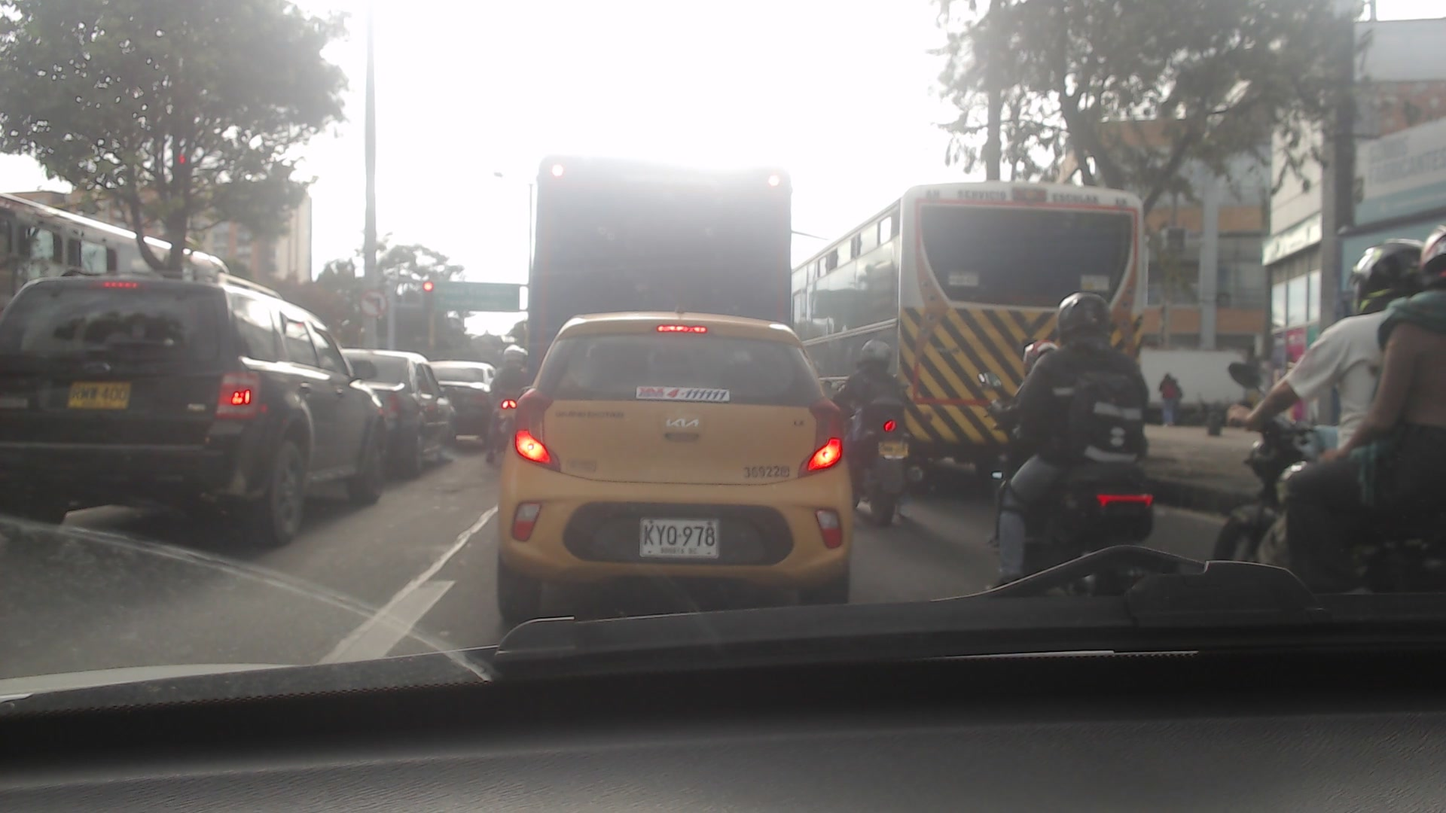bus: (792, 185, 1154, 474)
car: (488, 318, 854, 617), (0, 270, 392, 545), (333, 344, 459, 461), (417, 353, 492, 442)
person: (987, 291, 1157, 485), (1268, 238, 1403, 456), (1357, 217, 1445, 519), (831, 335, 925, 459), (490, 345, 528, 414)
truck: (510, 154, 801, 336)
